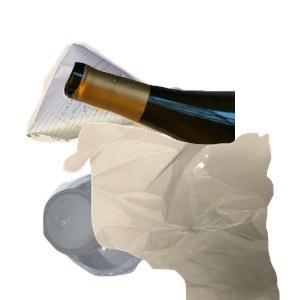glass: (60, 59, 300, 231)
paper: (23, 40, 223, 180)
plastic: (40, 170, 187, 300)
trash: (61, 120, 300, 300)
